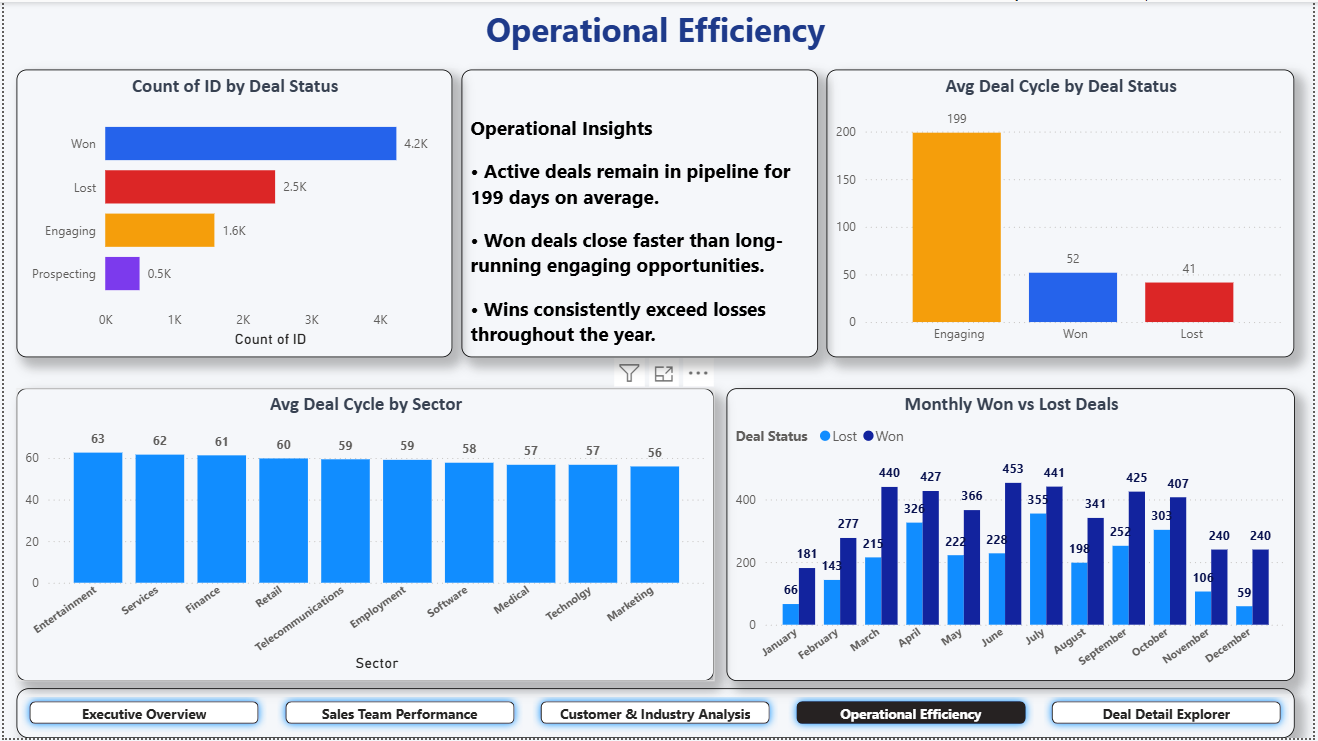

What the dashboard file says about the page in this screenshot:
{"tool":"powerbi","page":{"name":"Operational Efficiency","canvas":[1280,720],"ordinal":3},"visuals":[{"type":"clusteredColumnChart","fields":{"Y":["sales_pipeline.Avg Deal Cycle"],"Category":["sales_pipeline.Deal Status "]},"box":[805,66.2,457.5,281.2],"z":0},{"type":"barChart","fields":{"Category":["sales_pipeline.Deal Status "],"Y":["CountNonNull(sales_pipeline.ID)"]},"box":[12.5,66.2,426.2,281.2],"z":1000},{"type":"clusteredColumnChart","title":"Monthly Won vs Lost Deals","fields":{"Category":["sales_pipeline.Start Date.Variation.Date Hierarchy.Month"],"Series":["sales_pipeline.Deal Status "],"Y":["CountNonNull(sales_pipeline.ID)"]},"box":[706.2,377.5,556.2,286.2],"z":2000},{"type":"columnChart","fields":{"Category":["accounts.Sector"],"Y":["sales_pipeline.Avg Deal Cycle"]},"box":[12.5,377.5,682.5,286.2],"z":3000},{"type":"textbox","box":[447.5,66.2,348.8,281.2],"z":4000},{"type":"textbox","box":[12.3,0,1250.1,83.7],"z":5000},{"type":"pageNavigator","box":[12.5,671.2,1250,48.8],"z":6000}]}

Visuals, with their boxes in screenshot pixels (x1, y1, x2, y2), scaled from the page's 1280x720 canvas onto the 1318x741 screenshot:
clusteredColumnChart - sales_pipeline.Avg Deal Cycle x sales_pipeline.Deal Status : {"left": 829, "top": 68, "right": 1300, "bottom": 358}
barChart - sales_pipeline.Deal Status  x CountNonNull(sales_pipeline.ID): {"left": 13, "top": 68, "right": 452, "bottom": 358}
"Monthly Won vs Lost Deals" clusteredColumnChart: {"left": 727, "top": 389, "right": 1300, "bottom": 683}
columnChart - accounts.Sector x sales_pipeline.Avg Deal Cycle: {"left": 13, "top": 389, "right": 716, "bottom": 683}
textbox: {"left": 461, "top": 68, "right": 820, "bottom": 358}
textbox: {"left": 13, "top": 0, "right": 1300, "bottom": 86}
pageNavigator: {"left": 13, "top": 691, "right": 1300, "bottom": 740}
